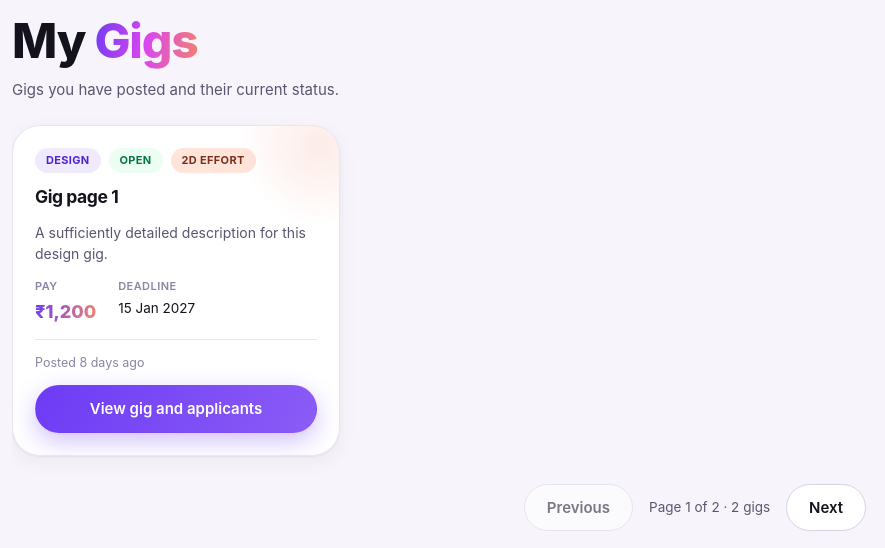
Test: My Gigs pagination › requests the next page and shows its results
Expected: the link "Gig page 1" is shown, [35,186,118,207]
What coordinates should you click on to do the following:
click the button "Next"
I would click on:
 (826, 507)
Its box is [786,484,866,531].
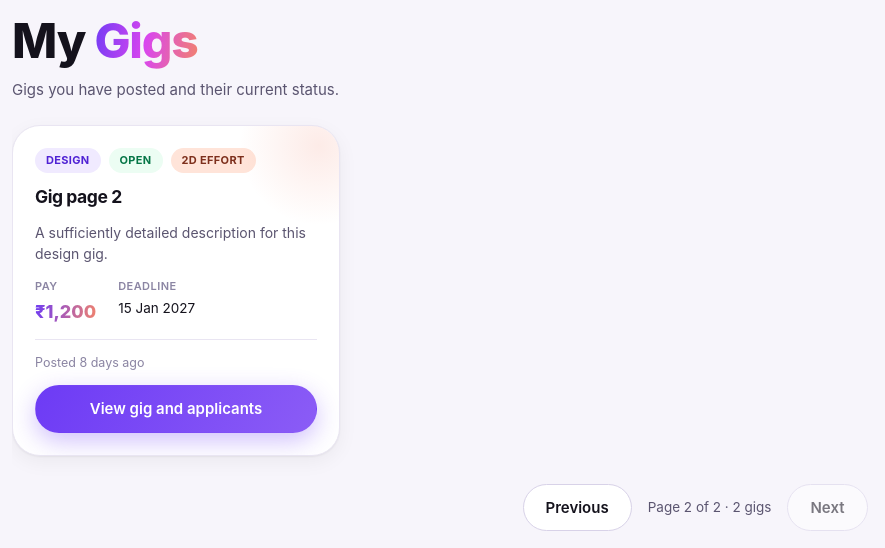
Now the link "Gig page 2" is shown, box [35,186,122,207]
